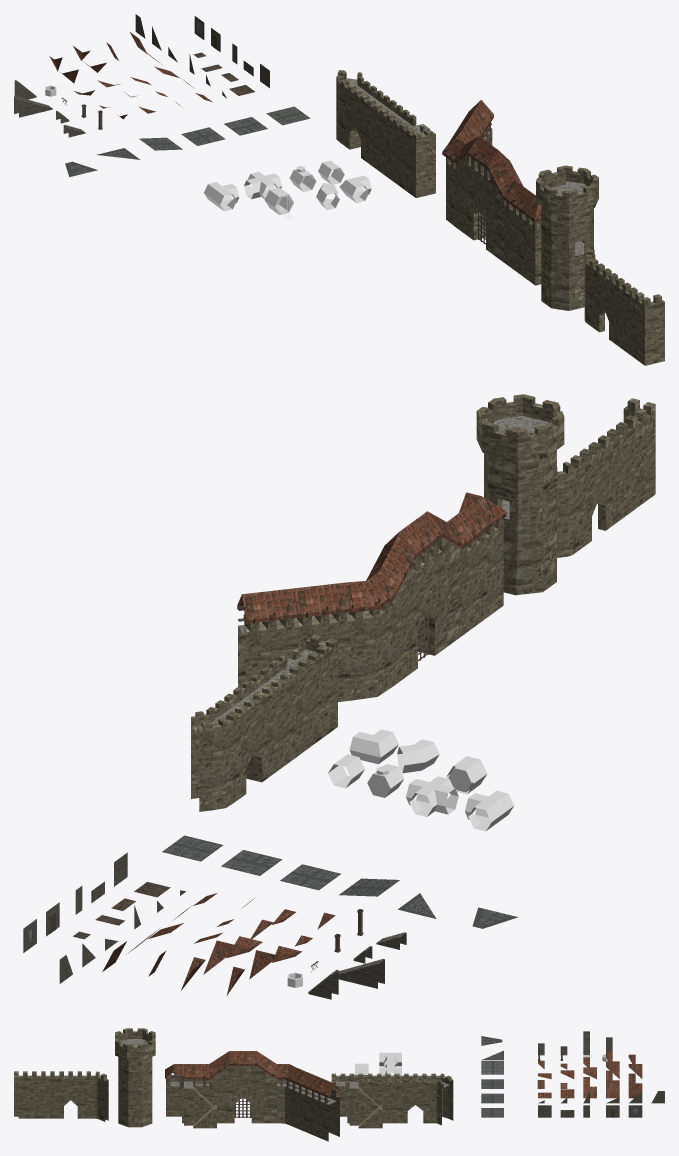
The model's file is City_Assets.fbx.
3 renders of one model, top to bottom at view 1: azimuth 30°, elevation 25°; view 2: azimuth 150°, elevation 25°; view 3: azimuth 270°, elevation 25°, orthographic. The views are drawn at different scales.
Visible parts, largest first — view 1: Circle, Gate_House, Wall_Corner_90, Wall_W_Corner_90, Wall_R_Stairs, Wall_W_Gate, Wall_W_Straight, Wall_W_Stairs, Wall_R_Corner_90, Wall_Straight, Wall_Gate, Wall_R_Corner_45 (+7 smaller); view 2: Circle, Gate_House, Wall_R_Corner_45, Wall_W_Corner_45, Wall_R_Straight_End, Wall_R_Straight, Wall_R_Stairs, Wall_W_Straight, Wall_W_Stairs, Wall_W_Gate, Wall_Straight, Wall_Corner_45 (+14 smaller); view 3: Gate_House, Circle, Wall_R_Stairs, Wall_R_Straight_End, Wall_W_Stairs, Wall_Straight, Wall_W_Straight, Wall_R_Straight, Wall_W_Corner_45, Wall_Corner_45, Wall_W_Gate, Wall_Gate (+13 smaller).
Boxes of the visible parts, x1,y1,x2,y2 form: Circle: [536, 165, 598, 310]; Gate_House: [454, 136, 523, 262]; Wall_Corner_90: [633, 292, 664, 365]; Wall_W_Corner_90: [404, 125, 435, 197]; Wall_R_Stairs: [503, 180, 533, 276]; Wall_W_Gate: [345, 81, 383, 160]; Wall_W_Straight: [365, 95, 403, 175]; Wall_W_Stairs: [385, 109, 429, 189]; Wall_R_Corner_90: [522, 194, 541, 285]; Wall_Straight: [614, 278, 637, 357]; Wall_Gate: [594, 263, 617, 342]; Wall_R_Corner_45: [442, 132, 468, 226]; Circle: [476, 394, 564, 595]; Gate_House: [366, 511, 462, 686]; Wall_R_Corner_45: [347, 572, 394, 700]; Wall_W_Corner_45: [191, 707, 240, 811]; Wall_R_Straight_End: [237, 588, 299, 687]; Wall_R_Straight: [294, 582, 351, 701]; Wall_R_Stairs: [447, 502, 489, 636]; Wall_W_Straight: [242, 667, 294, 777]; Wall_W_Stairs: [269, 649, 322, 757]; Wall_W_Gate: [214, 687, 267, 797]; Wall_Straight: [607, 415, 639, 525]; Wall_Corner_45: [557, 455, 585, 557]; Gate_House: [209, 1051, 276, 1123]; Circle: [115, 1028, 155, 1127]; Wall_R_Stairs: [182, 1064, 216, 1128]; Wall_R_Straight_End: [308, 1075, 340, 1141]; Wall_W_Stairs: [347, 1073, 382, 1128]; Wall_Straight: [30, 1071, 56, 1118]; Wall_W_Straight: [374, 1073, 401, 1123]; Wall_R_Straight: [289, 1067, 316, 1133]; Wall_W_Corner_45: [429, 1073, 453, 1125]; Wall_Corner_45: [84, 1071, 108, 1121]; Wall_W_Gate: [402, 1073, 428, 1123]; Wall_Gate: [57, 1071, 84, 1118].
Size of the model in its own units: 5536 by 2026 by 14350.
